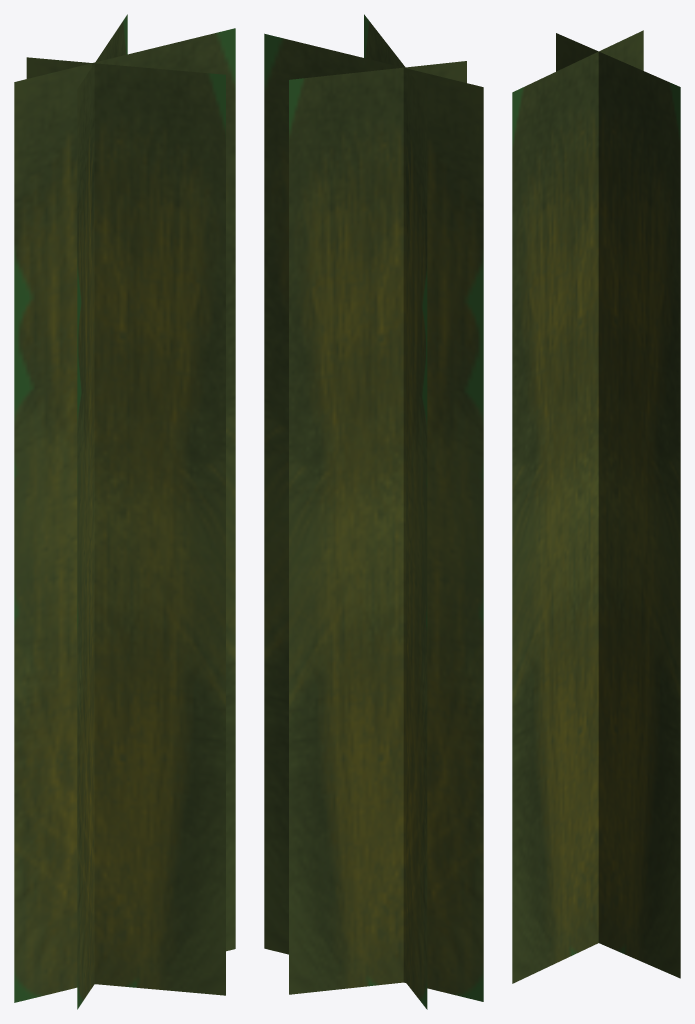
Rendered from SM_Lounge_Foliage_01.fbx.
3 renders of one model, left to right at view 1: azimuth 30°, elevation 25°; view 2: azimuth 150°, elevation 25°; view 3: azimuth 270°, elevation 25°, orthographic. The views are drawn at different scales.
Visible parts, largest first — view 1: SM_Lounge_Foliage_01; view 2: SM_Lounge_Foliage_01; view 3: SM_Lounge_Foliage_01.
Boxes of the visible parts, <box> form: SM_Lounge_Foliage_01: <box>14,14,235,1009</box>; SM_Lounge_Foliage_01: <box>264,14,483,1009</box>; SM_Lounge_Foliage_01: <box>512,30,680,983</box>.
Bounding box in the file's own units: 17.43 × 69.41 × 11.87.
1 material, 1 textured.
